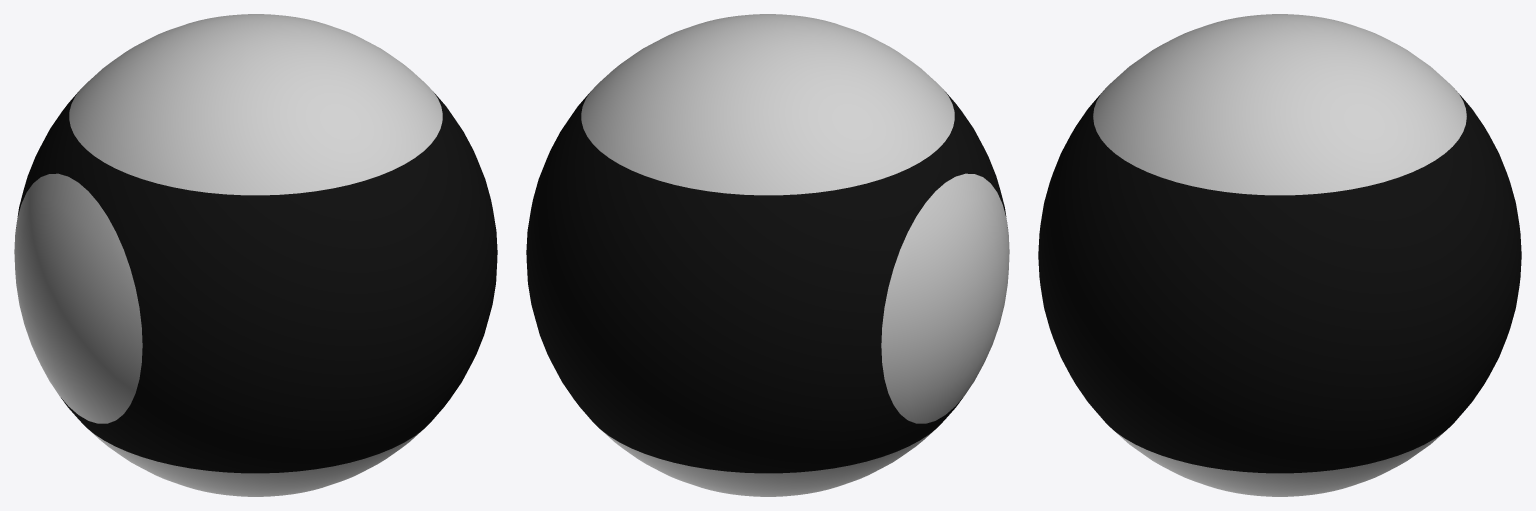
File: poolBall.fbx
3 renders of one model, left to right at view 1: azimuth 30°, elevation 25°; view 2: azimuth 150°, elevation 25°; view 3: azimuth 270°, elevation 25°, orthographic.
Parts seen in each view (by area): view 1: ballPool; view 2: ballPool; view 3: ballPool.
Part boxes in pixels (x1=…): ballPool: x1=14, y1=14, x2=497, y2=496; ballPool: x1=526, y1=14, x2=1009, y2=496; ballPool: x1=1038, y1=14, x2=1521, y2=496.
Bounding box in the file's own units: 1 × 1 × 1.
Materials: 1 (1 with a texture image).
